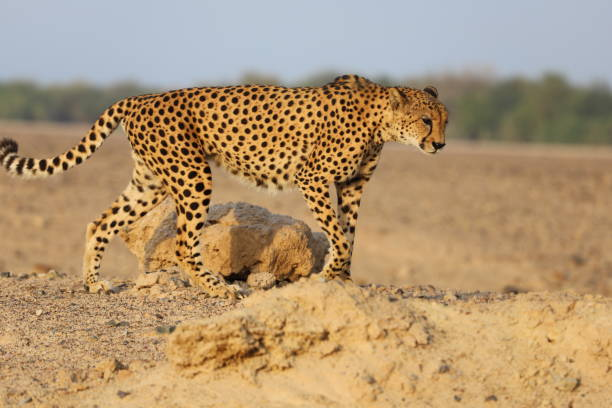cheetah: (386, 72, 459, 160)
